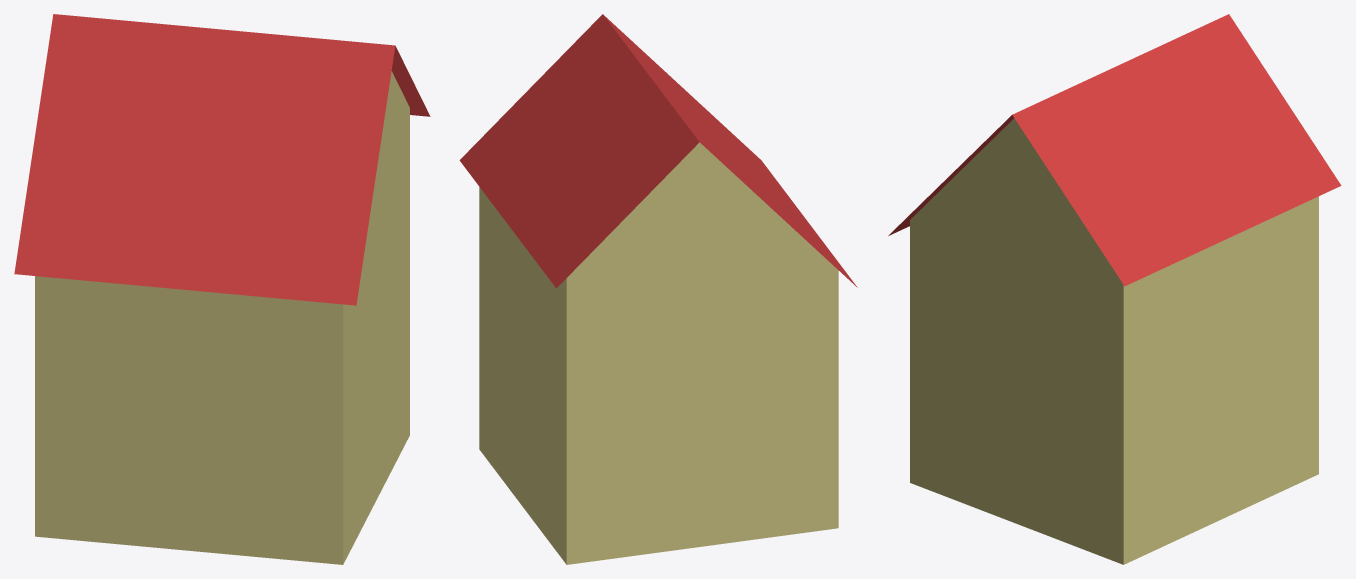
3 renders of one model, left to right at view 1: azimuth 30°, elevation 25°; view 2: azimuth 150°, elevation 25°; view 3: azimuth 270°, elevation 25°, orthographic. The views are drawn at different scales.
Bounding box in the file's own units: 14.18 × 14.17 × 14.34.
